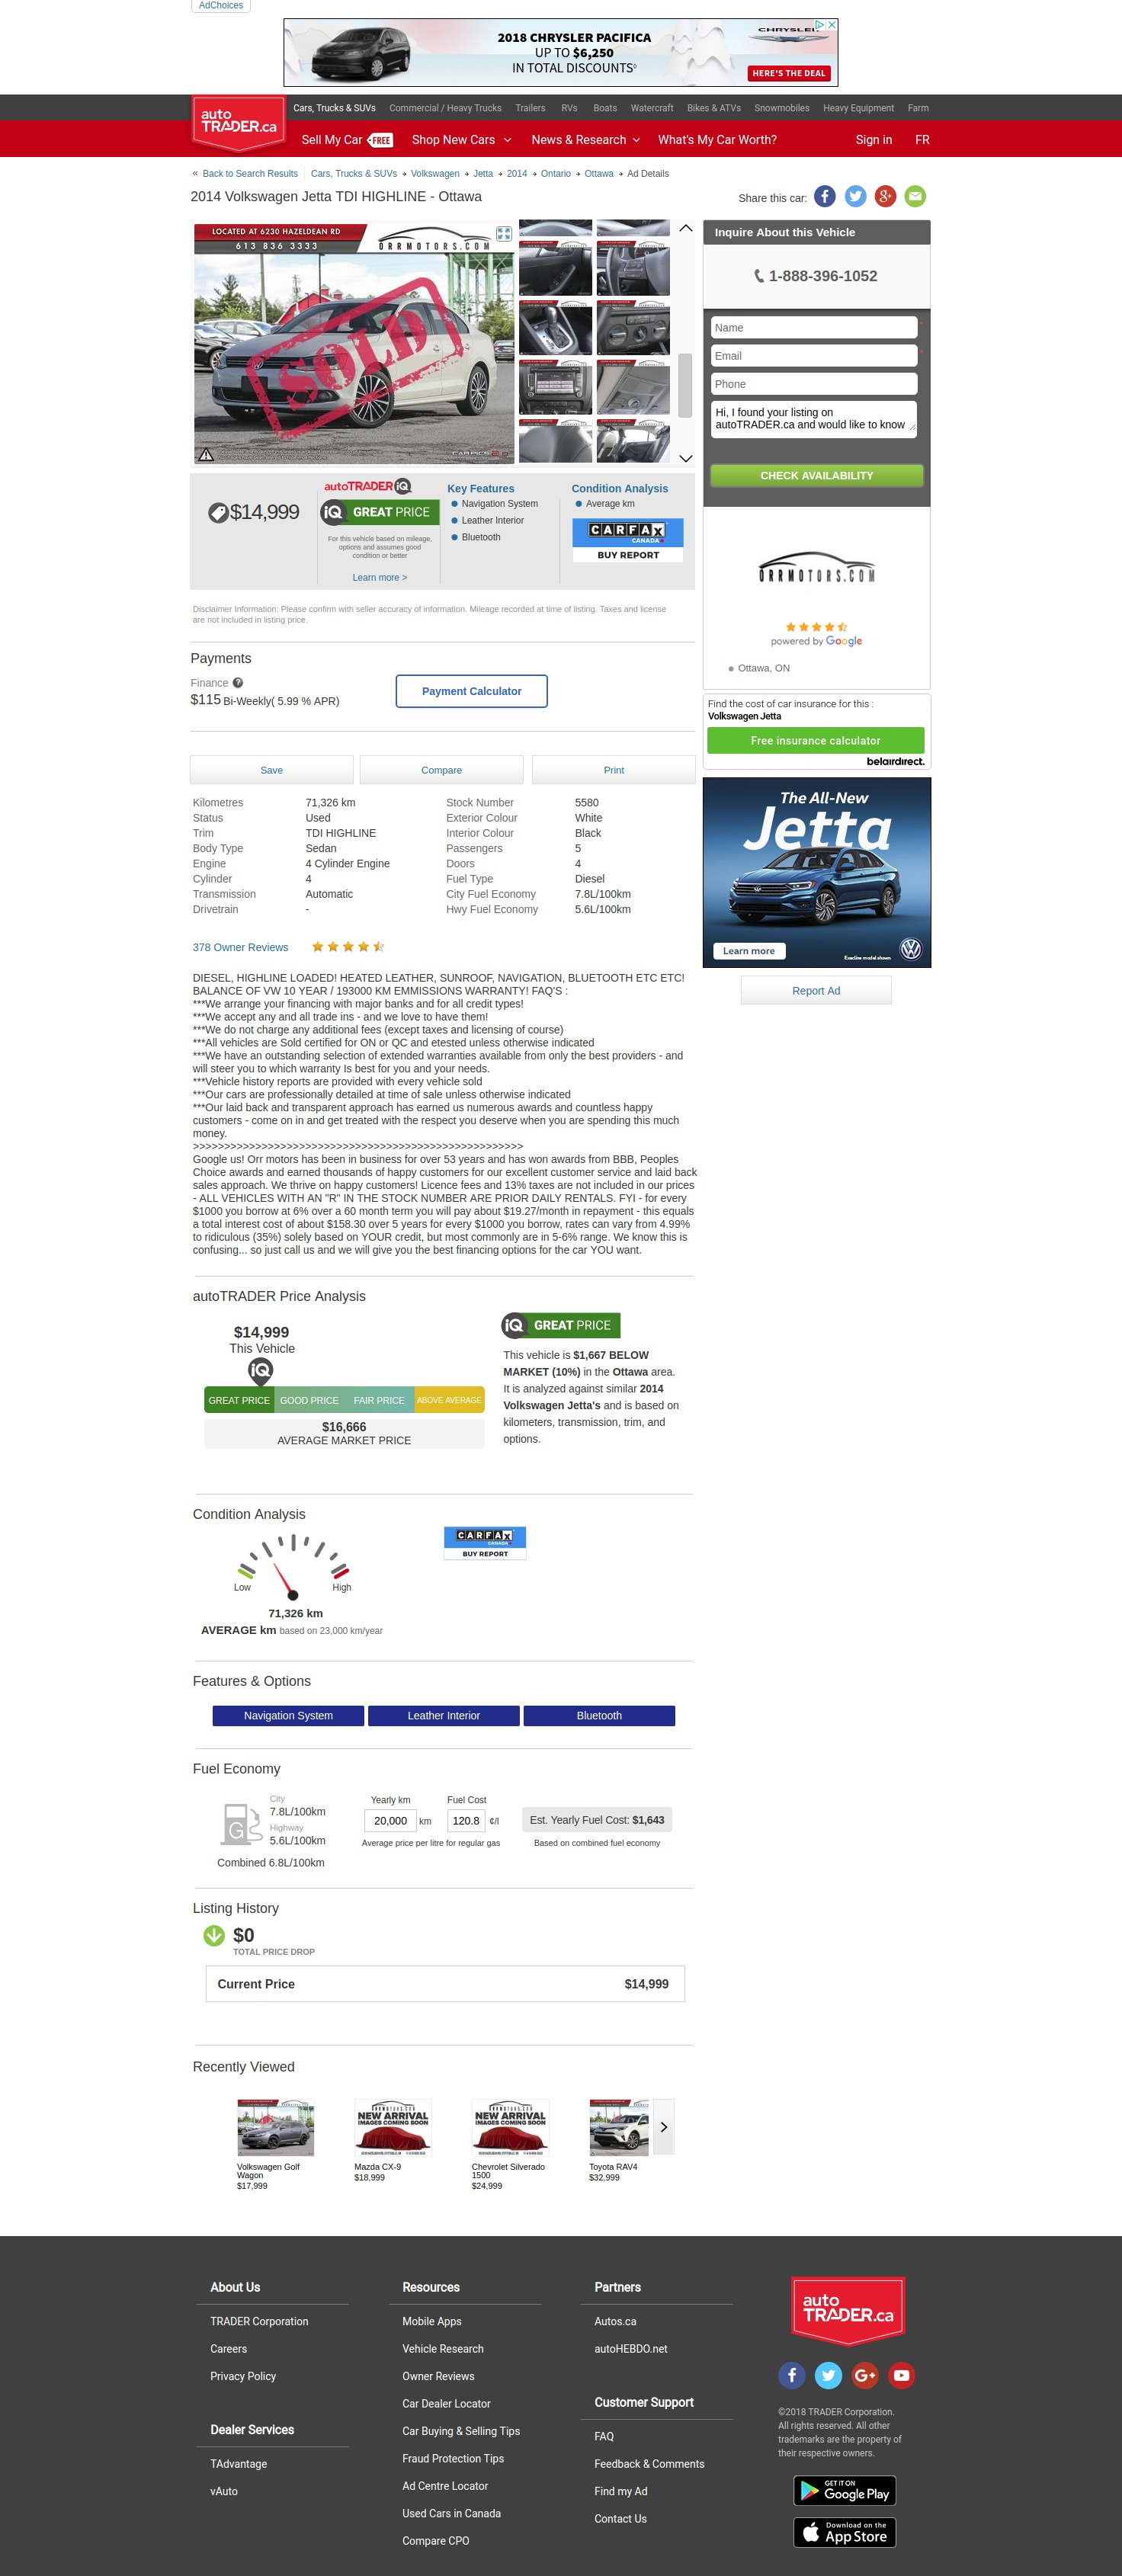car: (678, 453, 695, 465)
